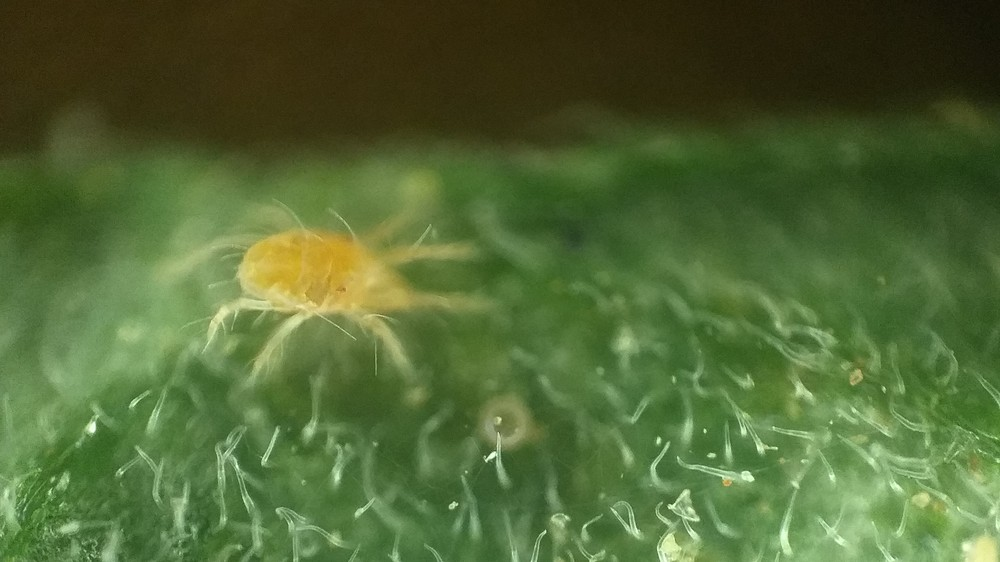Aracnido Rojo: (187, 178, 501, 395)
